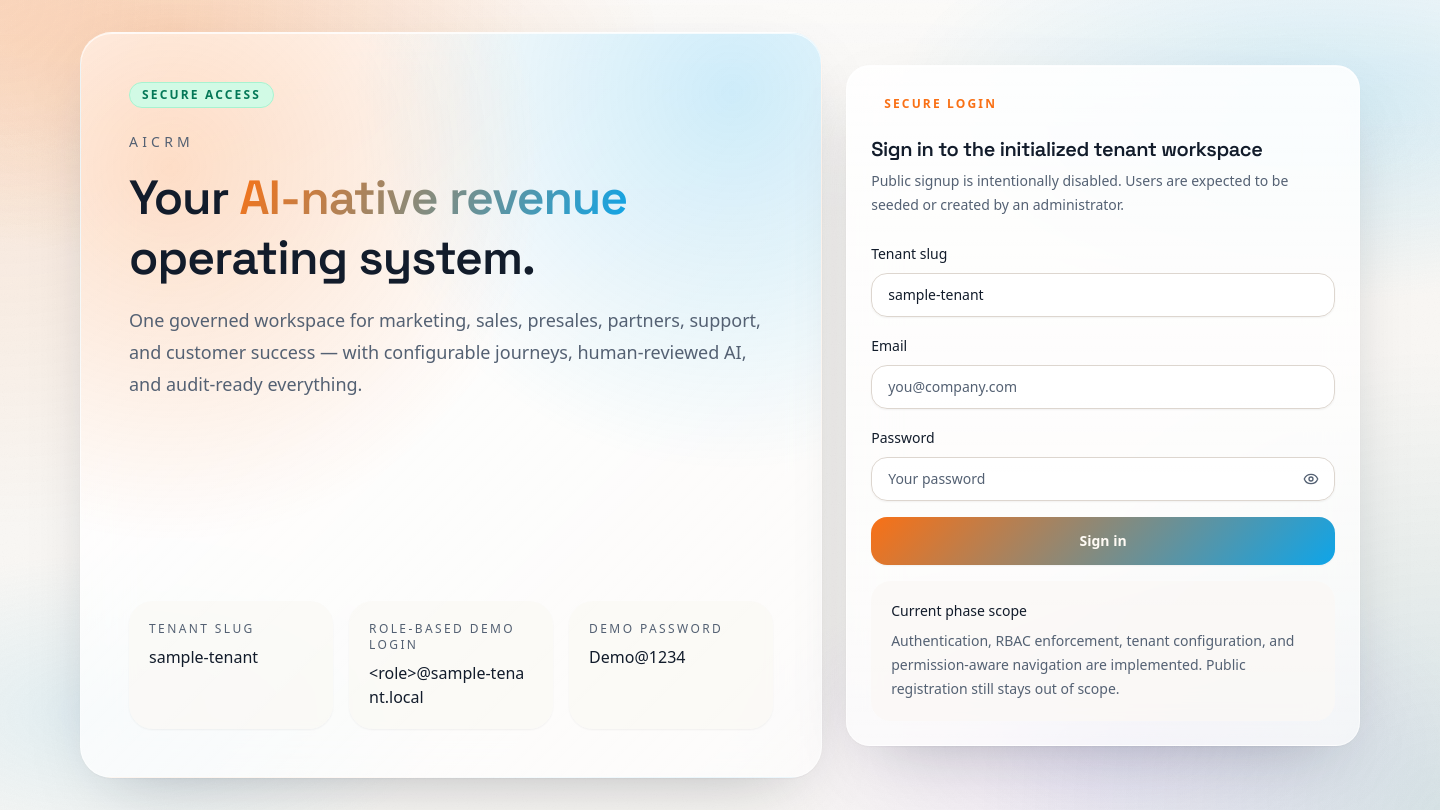
Test: Login page › surfaces an error message when authentication fails
Type "sales.manager@sample-tenant.local" into the field labelled "Email". click: (1103, 386)
box: [871,364,1335,408]
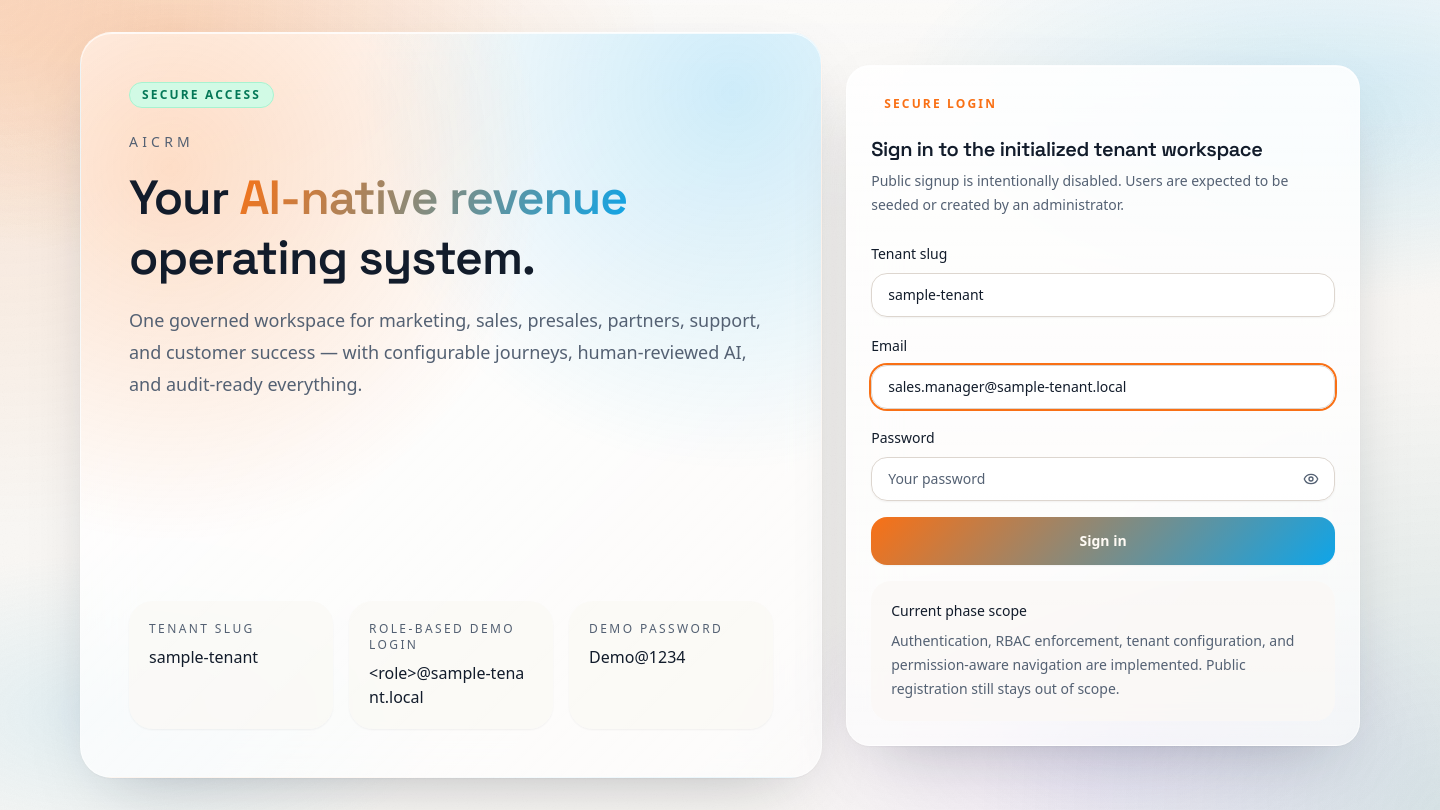
Type "wrong-password" into the password field labelled "Password". click: (1103, 478)
box: [871,456,1335,500]
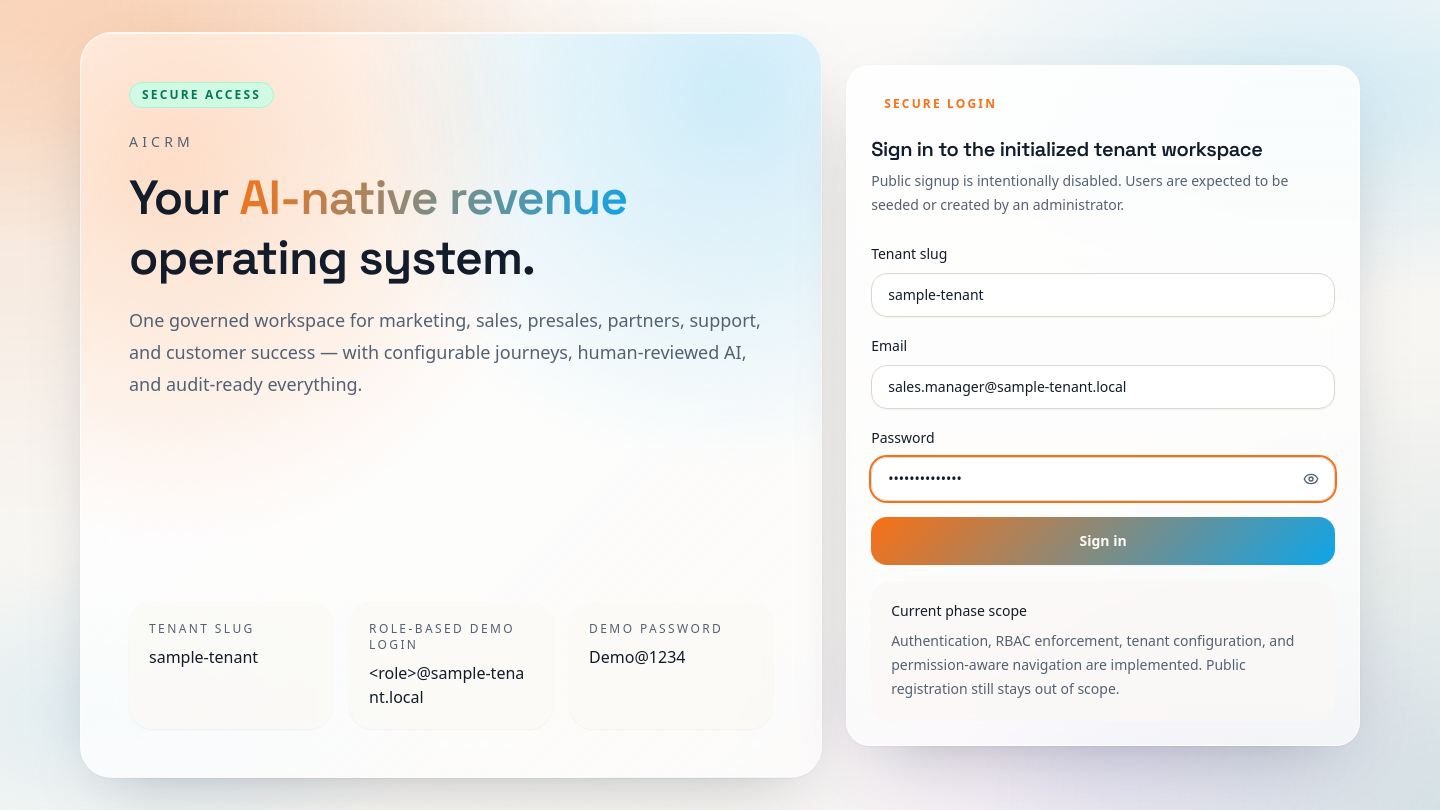
Click the button "Sign in". click: (1103, 540)
box: [871,516,1335,564]
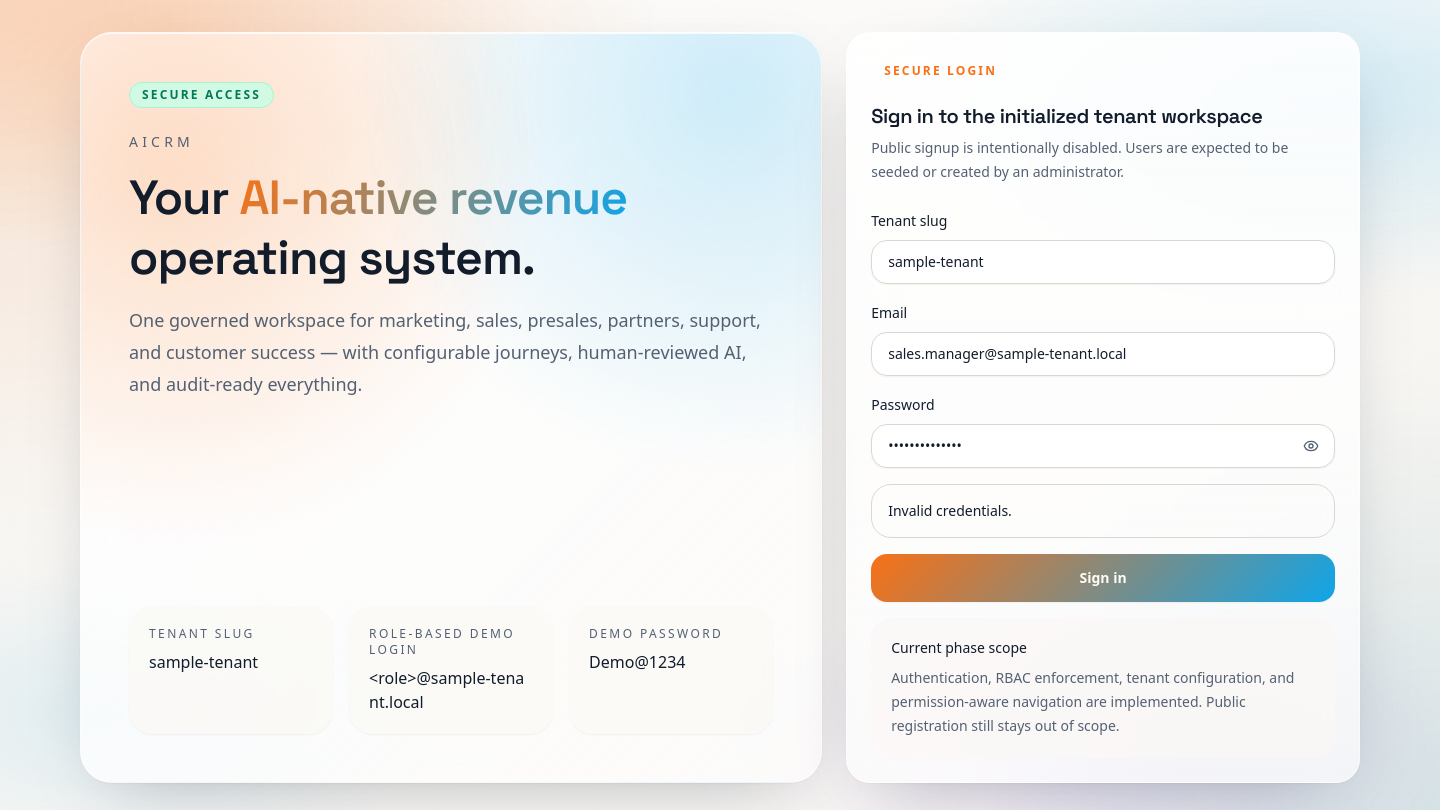
Expected: the text "Invalid credentials." is shown, [871,484,1335,538]
